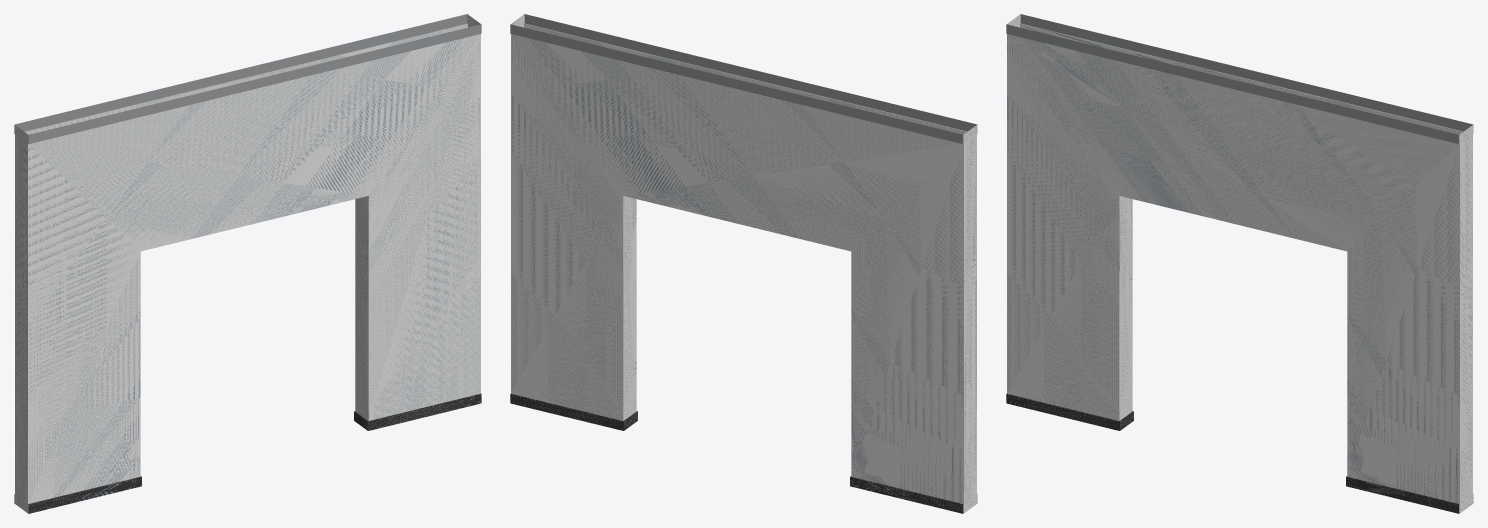
Rendered from BlockWall_ds_plinth_[500x400]_252x247_double_doorway.dae.
The picture shows the model from 3 angles, left to right: view 1: azimuth 30°, elevation 25°; view 2: azimuth 150°, elevation 25°; view 3: azimuth 330°, elevation 25°; orthographic projection.
Parts seen in each view (by area): view 1: group_0 (×5); view 2: group_0 (×5); view 3: group_0 (×5).
Part boxes in pixels (x1,y1,x2,y2): group_0 (×5): (14,14,481,513); group_0 (×5): (510,14,977,513); group_0 (×5): (1006,14,1473,513).
Size of the model in its own units: 197 by 10.63 by 157.
